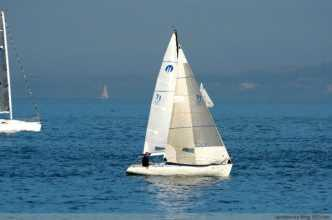fanchuan: (124, 25, 248, 177)
